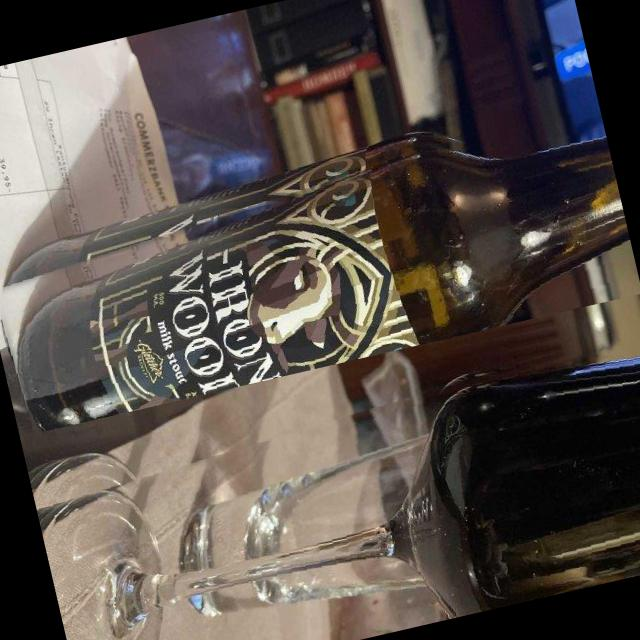Glass: (0, 93, 640, 435), (26, 324, 640, 640)
